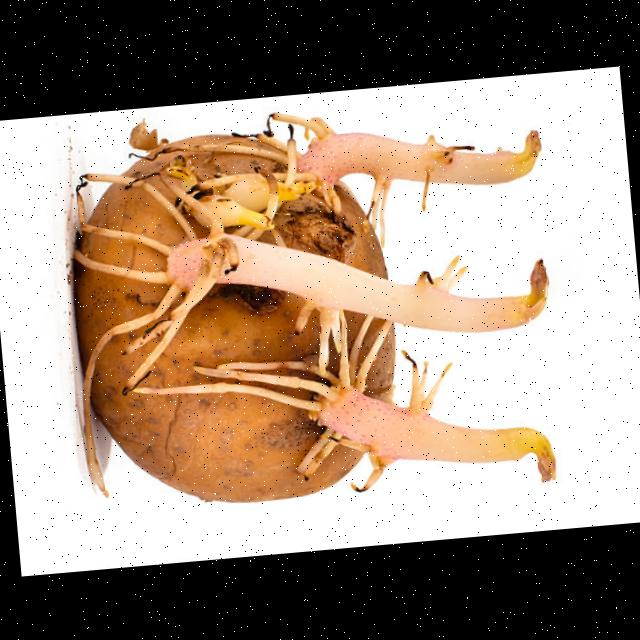Sprouted potato: (38, 70, 606, 566)
